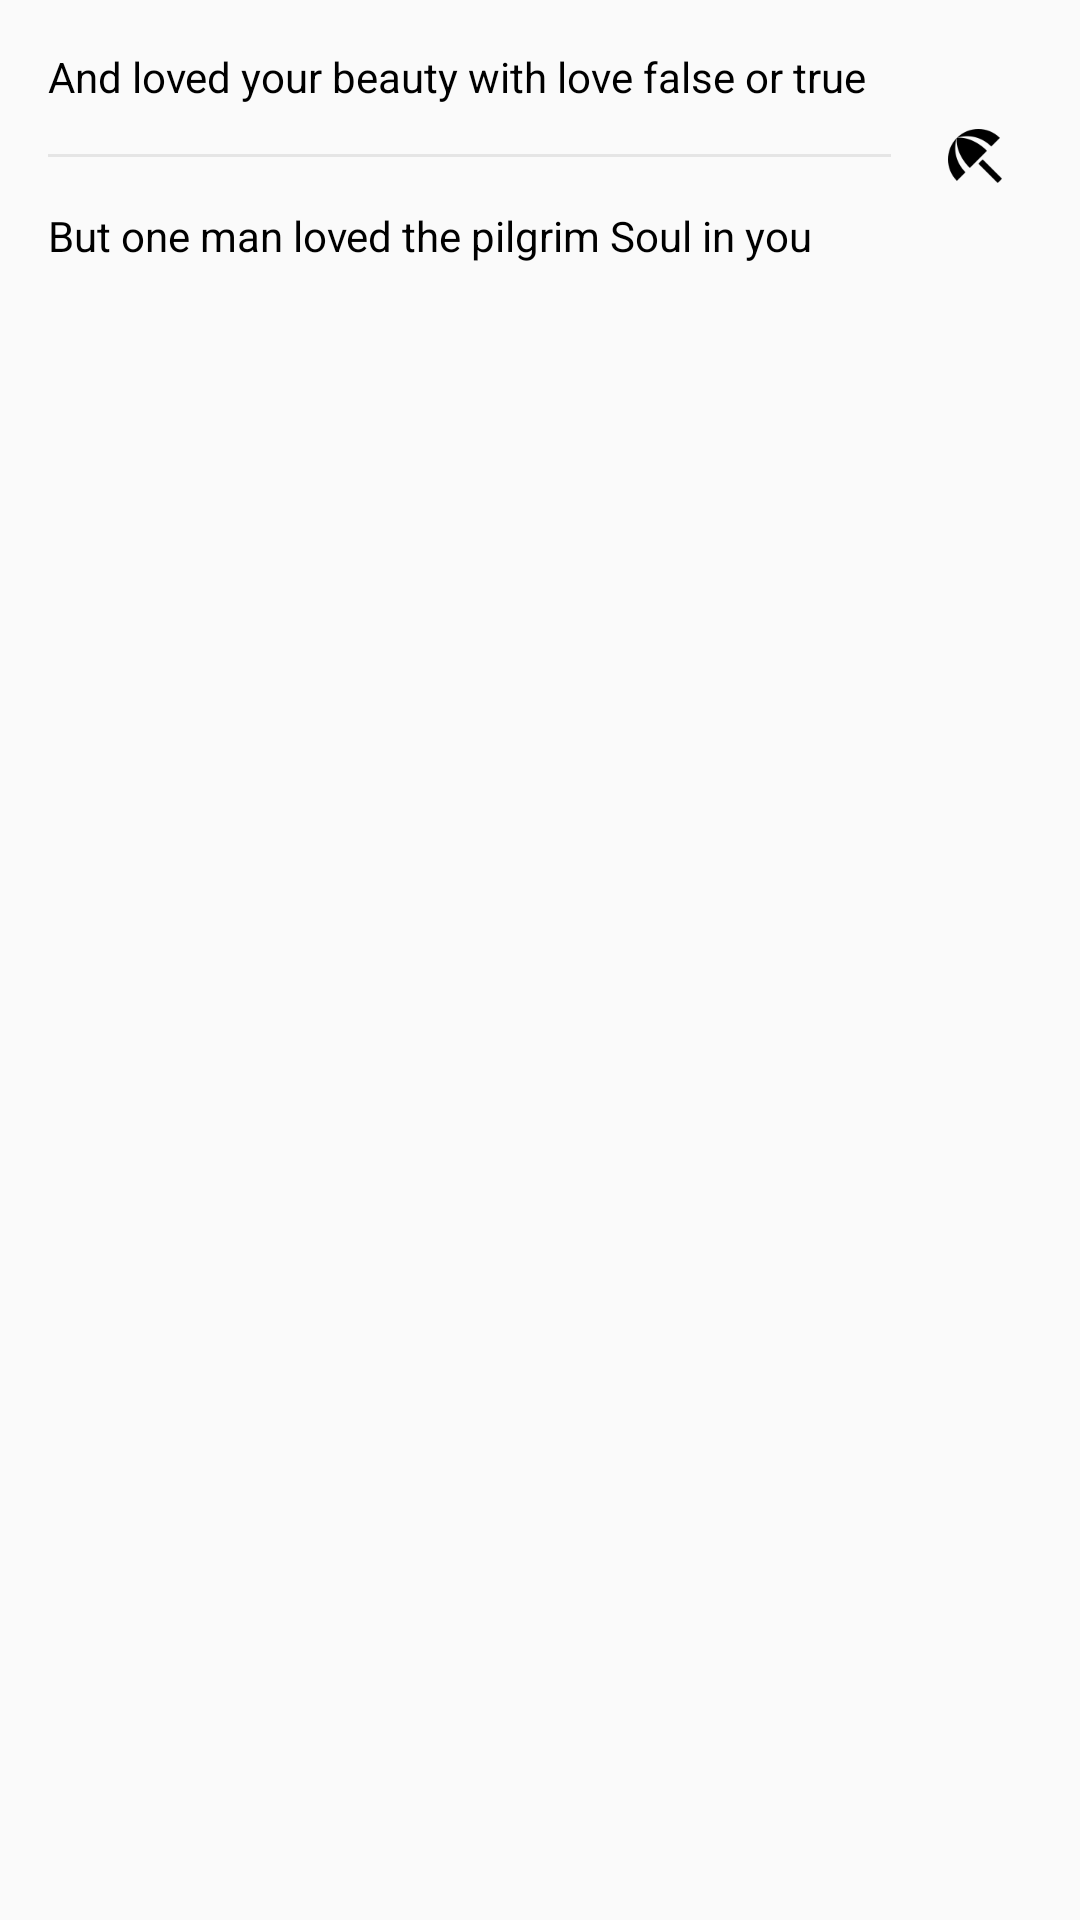

Icon click points for this 1080w x 1920h phone screenshot, format point (x, y):
beach access: point (975, 156)
